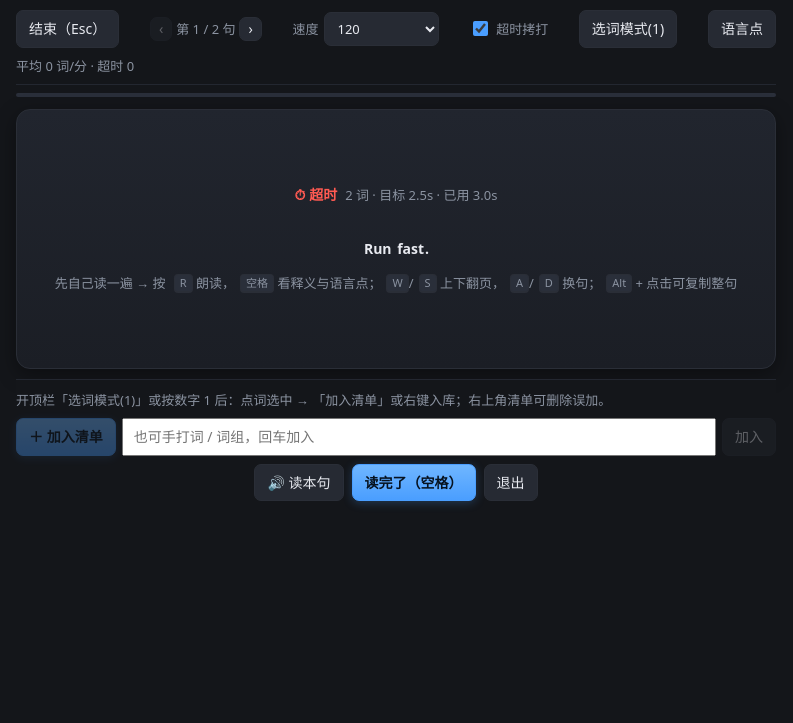
Test: SpeedReadPanel：逐句阅读 › 超时 + 自动拷打：揭示后先做题，答完才进下一句
This screenshot has width=793, height=723.
Click the button "读完了（空格）" at (414, 483), box x1=352 y1=464 x2=476 y2=501
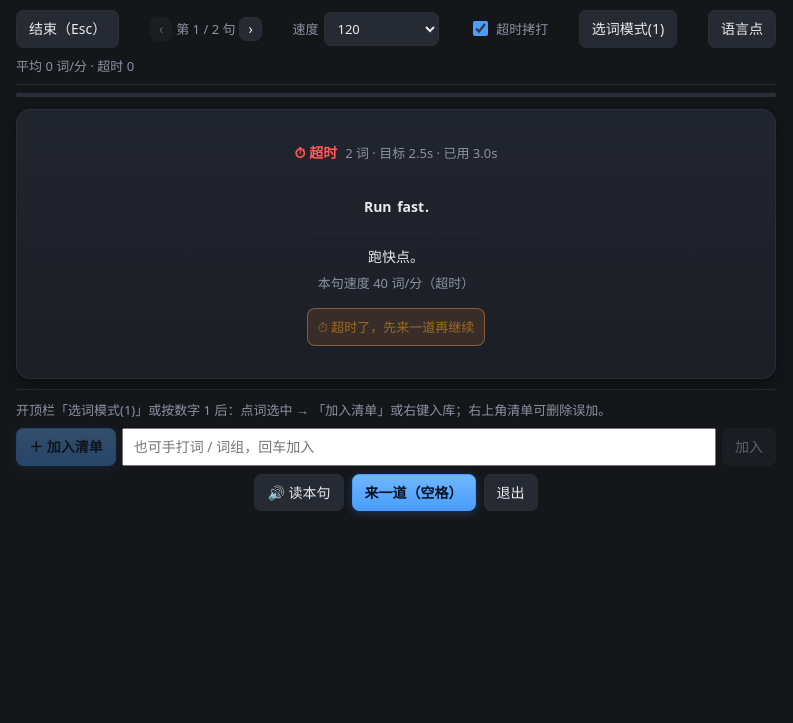
Result: the text "⏱ 超时了，先来一道再继续" is shown at x1=307 y1=308 x2=485 y2=346
Click the button "来一道（空格）" at (414, 492), box x1=352 y1=474 x2=476 y2=511
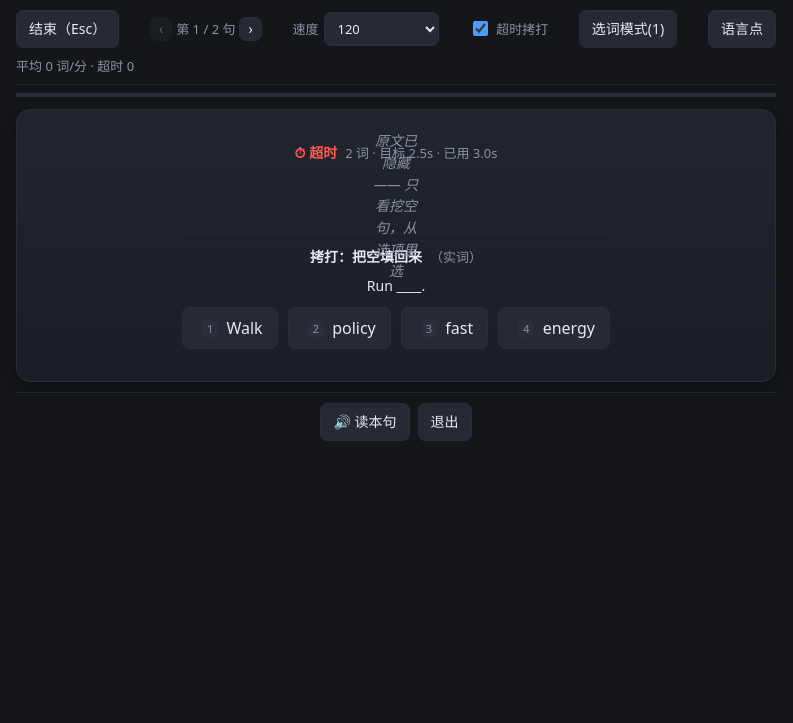
Result: the text "拷打：把空填回来" is shown at x1=310 y1=247 x2=422 y2=266
Result: the text "原文已隐藏 —— 只看挖空句，从选项里选" is shown at x1=374 y1=175 x2=418 y2=237
Click the button "1 Walk" at (230, 328), box x1=182 y1=307 x2=278 y2=349
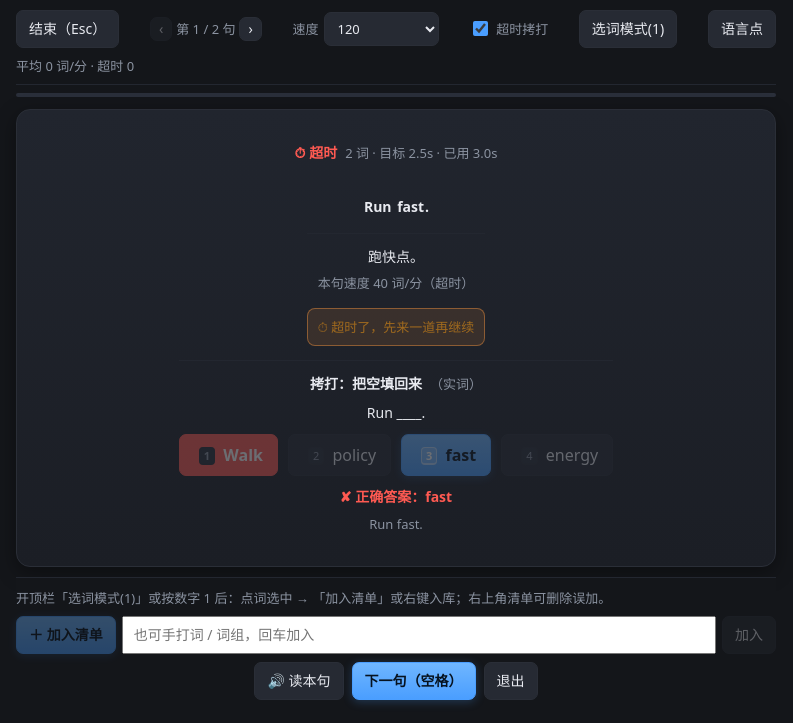
Click the button "下一句（空格）" at (414, 681), box x1=352 y1=662 x2=476 y2=700
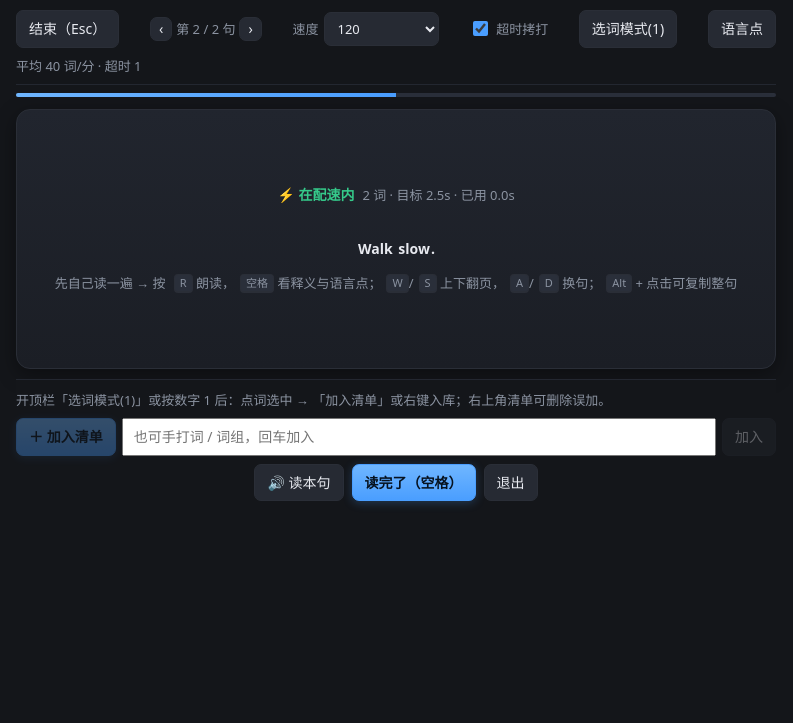
Result: the text "第 2 / 2 句" is shown at x1=176 y1=19 x2=235 y2=39
